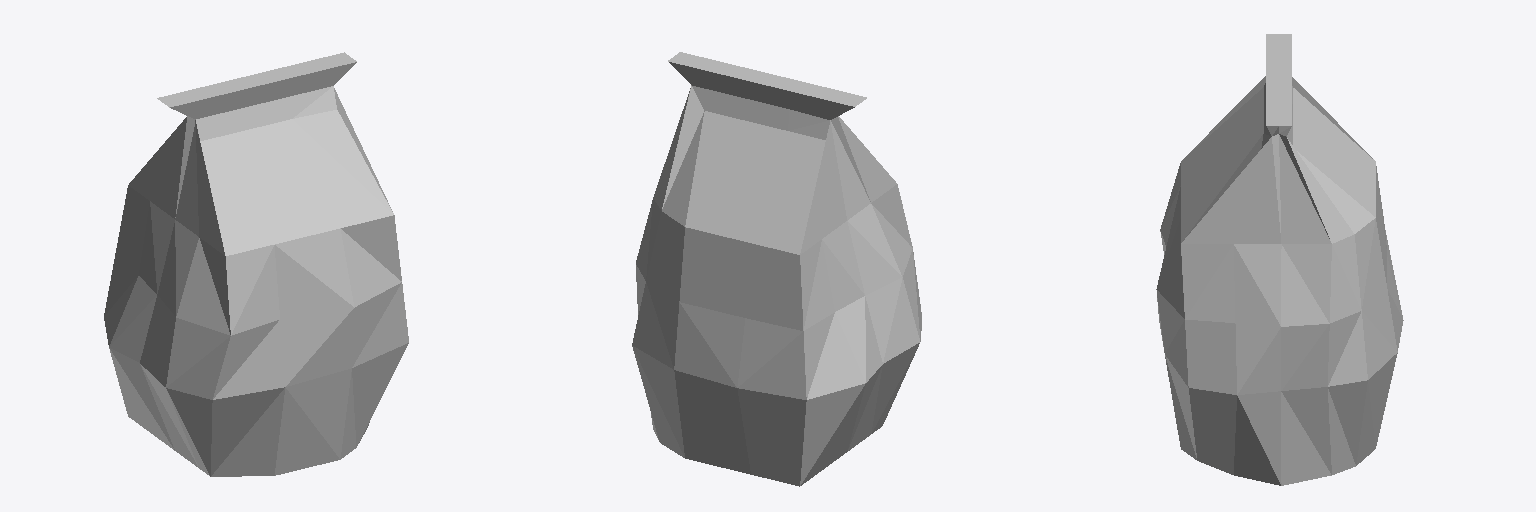
The model's file is potato bag.obj.
The picture shows the model from 3 angles: view 1: azimuth 30°, elevation 25°; view 2: azimuth 150°, elevation 25°; view 3: azimuth 270°, elevation 25°; orthographic projection.
Parts seen in each view (by area): view 1: pCube1; view 2: pCube1; view 3: pCube1.
Part boxes in pixels (bbox=[...]): pCube1: bbox=[104, 52, 408, 476]; pCube1: bbox=[632, 52, 921, 486]; pCube1: bbox=[1156, 34, 1403, 485].
Bounding box in the file's own units: 1.45 × 1.99 × 1.27.